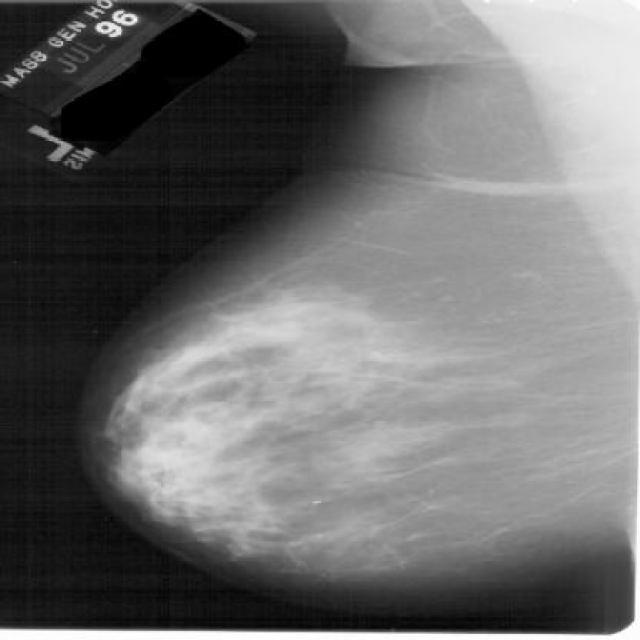tumor: (117, 332, 308, 572)
